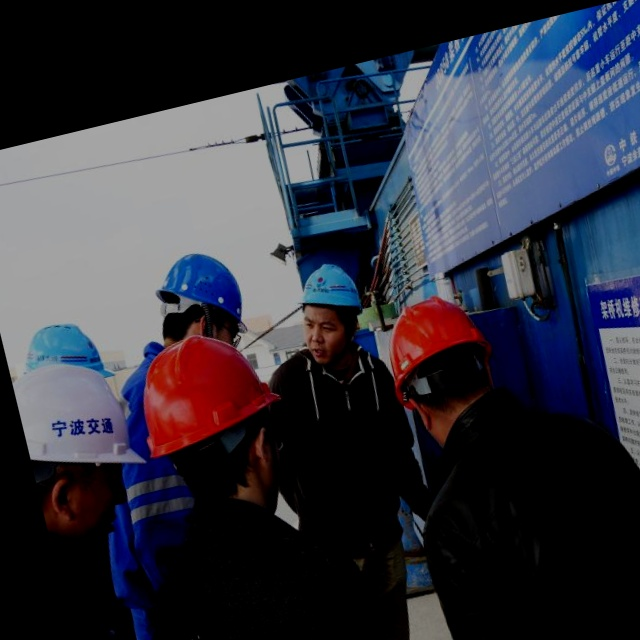Con_Casco: (136, 326, 288, 516), (382, 288, 511, 445), (289, 256, 372, 362)
